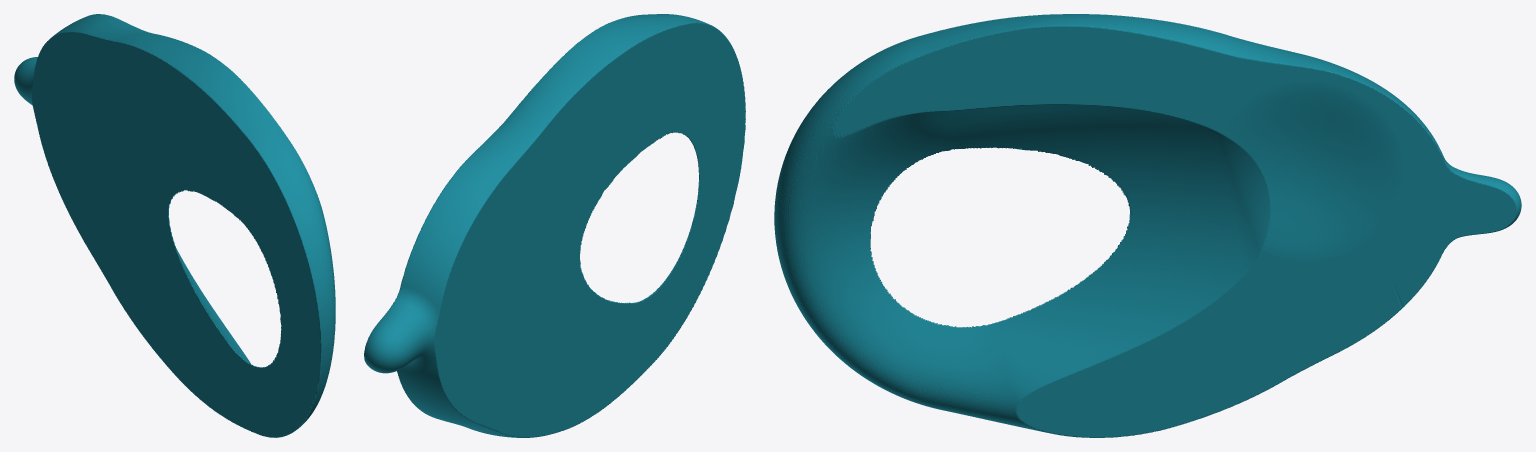
Rendered from outline.obj.
The picture shows the model from 3 angles, left to right: view 1: azimuth 30°, elevation 25°; view 2: azimuth 150°, elevation 25°; view 3: azimuth 270°, elevation 25°; orthographic projection. The views are drawn at different scales.
Parts seen in each view (by area): view 1: model_3; view 2: model_3; view 3: model_3.
Part boxes in pixels (bbox=[...]): model_3: bbox=[14, 14, 335, 437]; model_3: bbox=[364, 14, 745, 437]; model_3: bbox=[774, 14, 1521, 437].
Size of the model in its own units: 245 by 1395 by 2349.
1 material, 1 textured.
